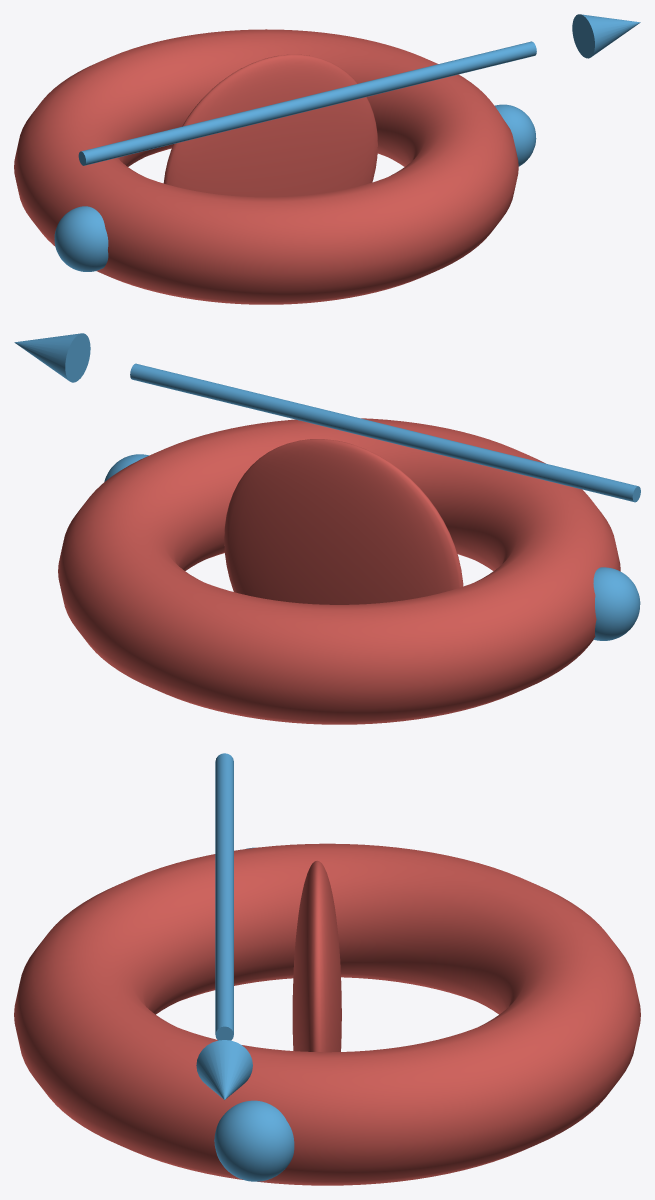
The model's file is physiology-blood-circulation-red-blood-cell.glb.
3 views of the same model, one above another, from view 1: azimuth 30°, elevation 25°; view 2: azimuth 150°, elevation 25°; view 3: azimuth 270°, elevation 25° (orthographic). The views are drawn at different scales.
Parts seen in each view (by area): view 1: biconcave-red-blood-cell-rim, soft-center-dimple-front, oxygen-delivery-flow-shaft, oxygen-cargo-a, oxygen-delivery-flow-head, oxygen-cargo-b; view 2: biconcave-red-blood-cell-rim, soft-center-dimple-front, oxygen-delivery-flow-shaft, oxygen-cargo-a, oxygen-delivery-flow-head; view 3: biconcave-red-blood-cell-rim, soft-center-dimple-front, oxygen-delivery-flow-shaft, oxygen-cargo-b, oxygen-delivery-flow-head.
Boxes of the visible parts, x1,y1,x2,y2 form: biconcave-red-blood-cell-rim: [14, 29, 518, 304]; soft-center-dimple-front: [163, 54, 377, 197]; oxygen-delivery-flow-shaft: [78, 41, 536, 165]; oxygen-cargo-a: [54, 206, 108, 271]; oxygen-delivery-flow-head: [572, 14, 640, 58]; oxygen-cargo-b: [495, 104, 536, 166]; biconcave-red-blood-cell-rim: [58, 418, 620, 724]; soft-center-dimple-front: [224, 439, 463, 604]; oxygen-delivery-flow-shaft: [130, 363, 640, 502]; oxygen-cargo-a: [593, 567, 640, 640]; oxygen-delivery-flow-head: [14, 333, 90, 382]; biconcave-red-blood-cell-rim: [14, 843, 640, 1185]; soft-center-dimple-front: [292, 860, 341, 1052]; oxygen-delivery-flow-shaft: [215, 753, 233, 1040]; oxygen-cargo-b: [214, 1100, 294, 1181]; oxygen-delivery-flow-head: [196, 1040, 252, 1099].
Size of what is drawn, in the model's own units: 1.59 by 0.605 by 1.22.
